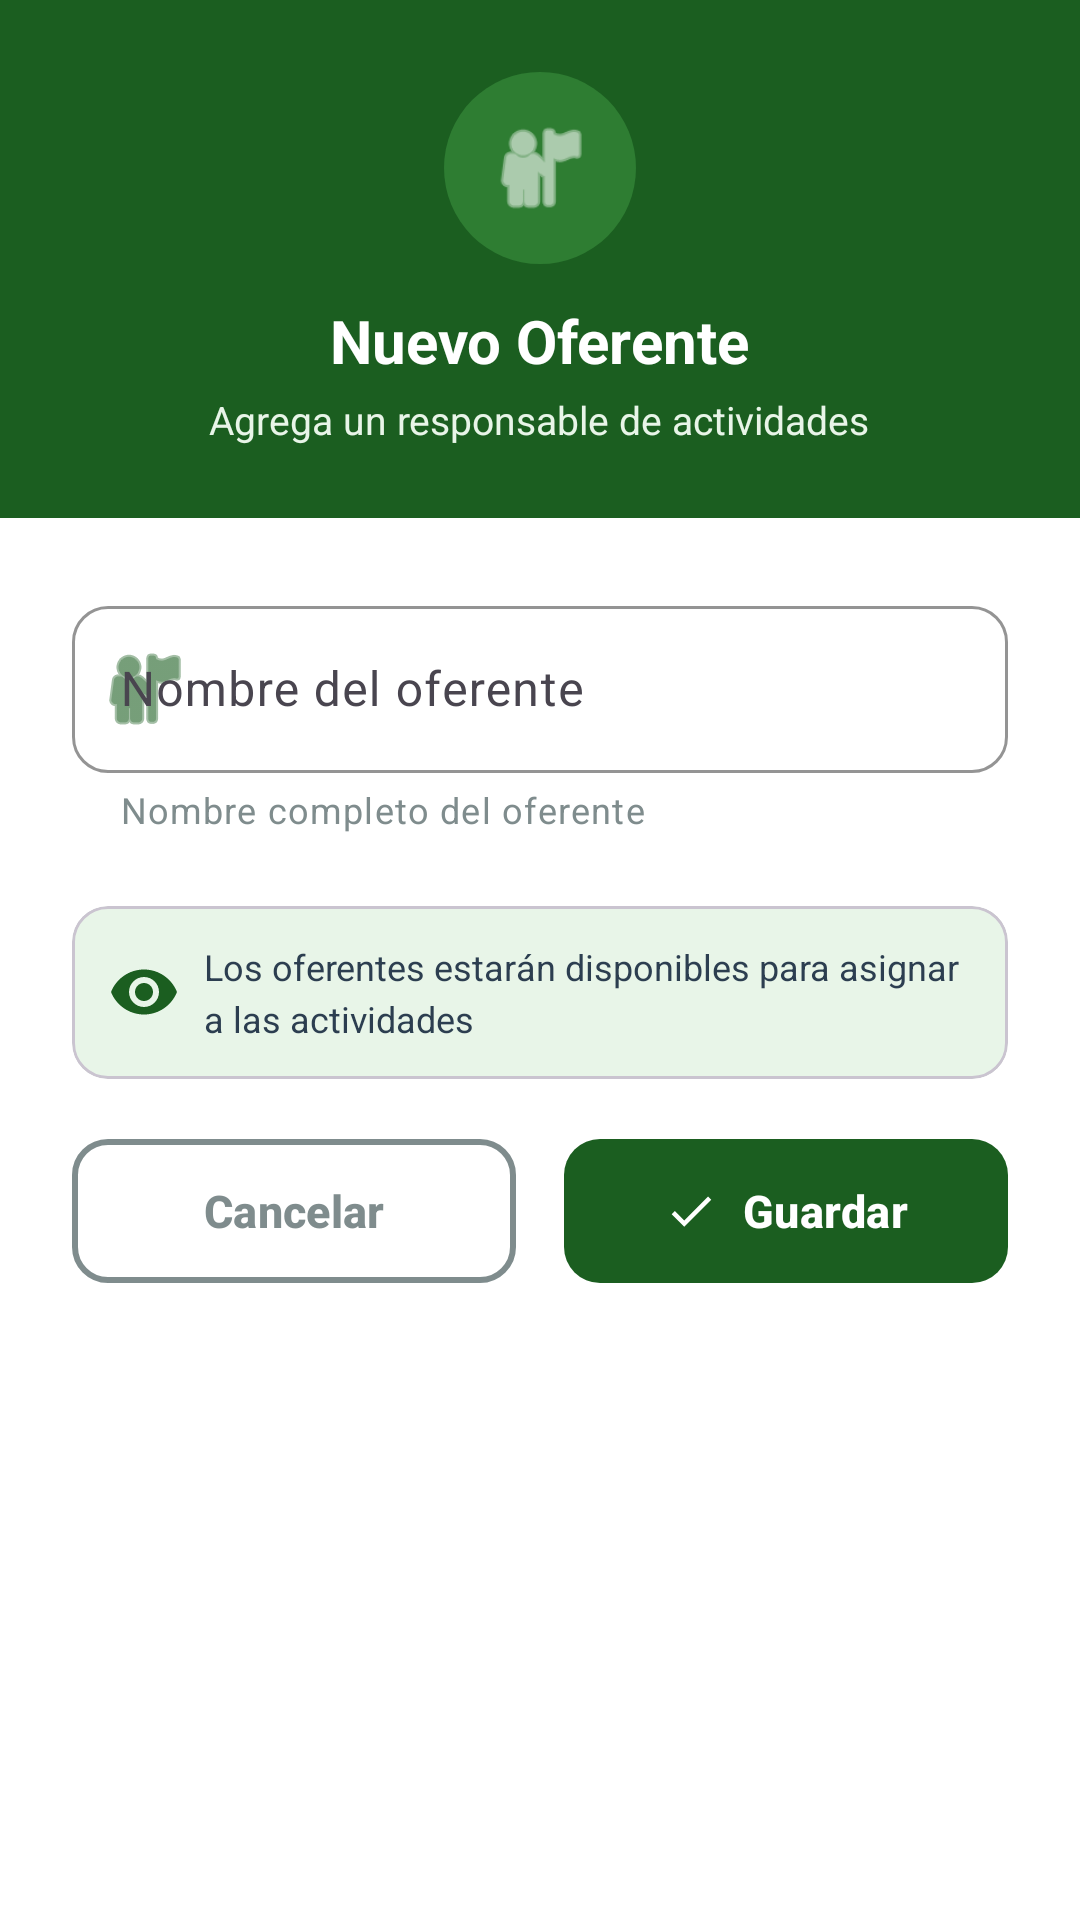

Named icons in this screenshot (1080*1920) and their bounding boxes, (x1, y1, x2, y2):
view: (111, 969, 177, 1015)
